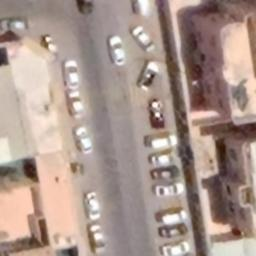SUV: (143, 130, 181, 150)
pickup: (127, 24, 160, 55)
sedan: (62, 89, 90, 122), (106, 34, 130, 68), (80, 189, 105, 221), (61, 59, 85, 91), (70, 126, 96, 155), (153, 182, 187, 200), (158, 225, 191, 241), (148, 152, 180, 168), (158, 241, 194, 255)
unknown: (150, 164, 182, 182)
van: (154, 208, 190, 226)
